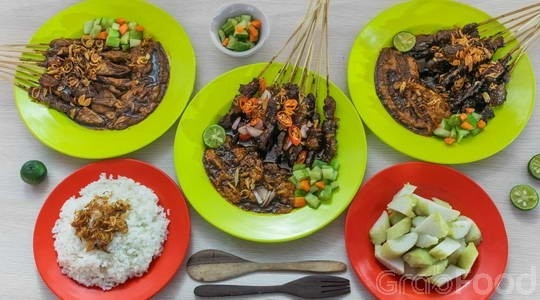sate_madura: (20, 20, 185, 133), (401, 5, 540, 137), (218, 45, 346, 168)
